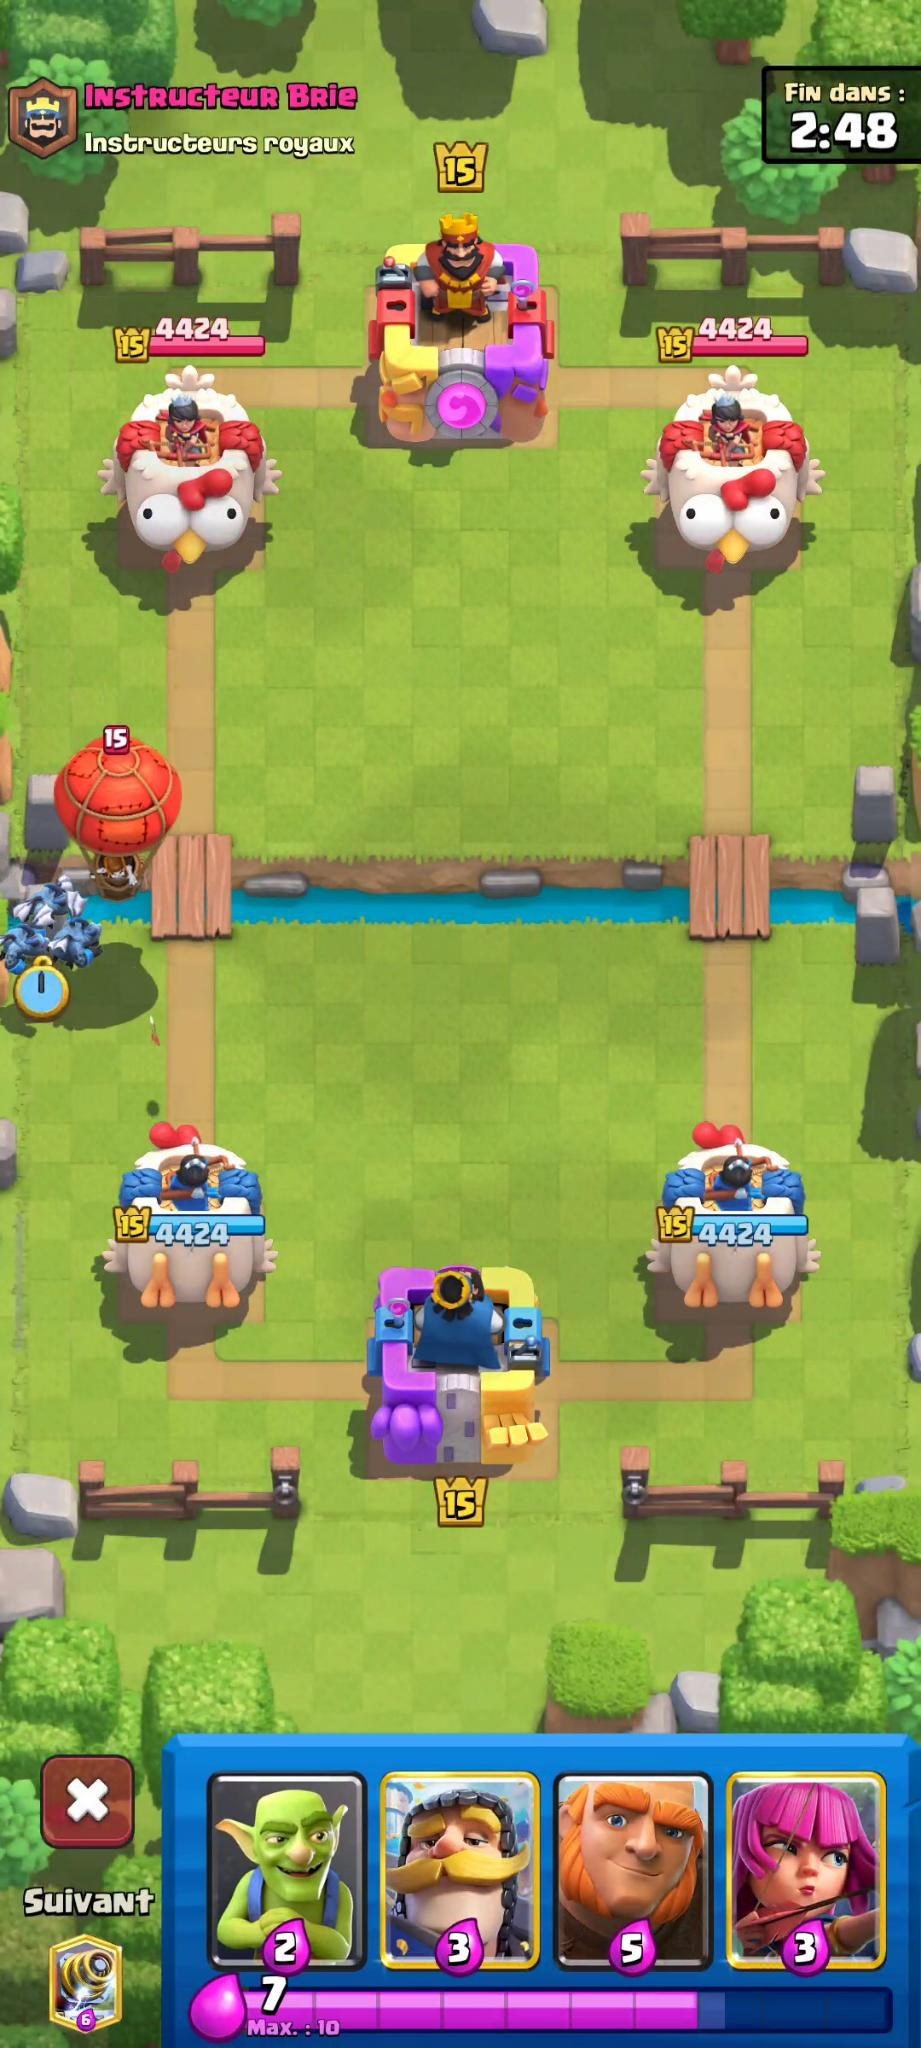gargouille: (5, 916, 51, 981), (13, 878, 89, 917), (52, 913, 105, 968)
